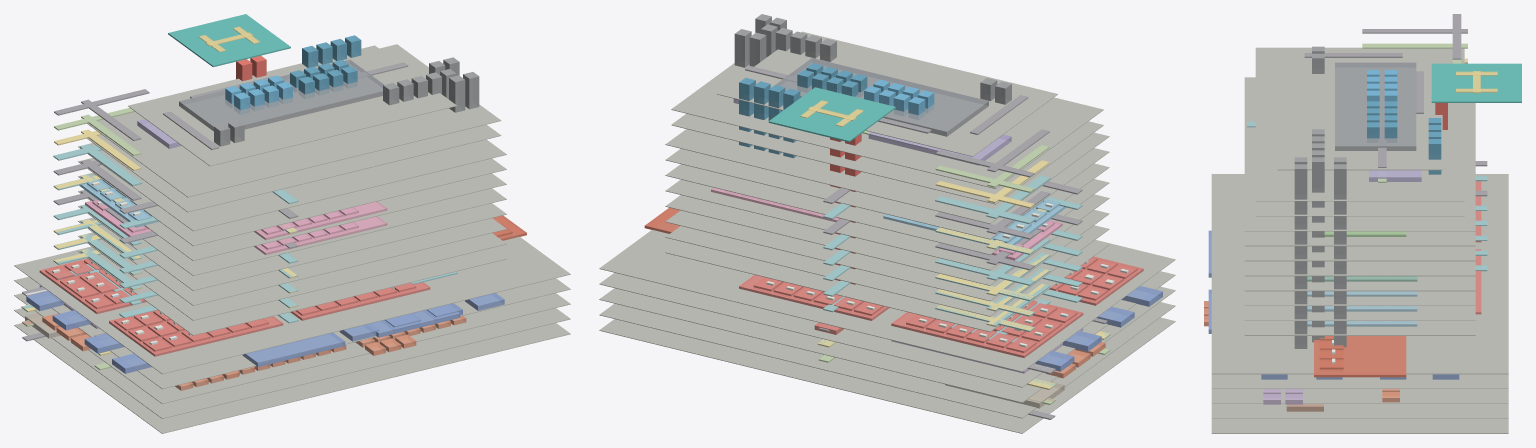
Rendered from hospital_model.glb.
3 views of the same model, side by side, from view 1: azimuth 30°, elevation 25°; view 2: azimuth 150°, elevation 25°; view 3: azimuth 270°, elevation 25° (orthographic). The views are drawn at different scales.
Parts seen in each view (by area): view 1: FLOOR-PH, FLOOR-L3, FLOOR-L13, FLOOR-B2, FLOOR-B1, FLOOR-L11, FLOOR-L12, FLOOR-L10, FLOOR-L4, FLOOR-L6, FLOOR-L5, FLOOR-L7 (+19 smaller); view 2: FLOOR-L3, FLOOR-PH, FLOOR-L13, FLOOR-B2, FLOOR-B1, FLOOR-L1, FLOOR-L2, FLOOR-L11, FLOOR-L10, FLOOR-L5, FLOOR-L4, FLOOR-L6 (+24 smaller); view 3: FLOOR-L3, FLOOR-PH, FLOOR-L13, FLOOR-L11, MECH-AHU, FLOOR-B2, FLOOR-B1, FLOOR-L2, FLOOR-L1, FLOOR-L8, FLOOR-L9, HELIPAD-ROOF-01 (+23 smaller).
Part boxes in pixels (bbox=[...]): FLOOR-PH: bbox=[128, 45, 456, 166]; FLOOR-L3: bbox=[14, 237, 570, 374]; FLOOR-L13: bbox=[87, 44, 501, 197]; FLOOR-B2: bbox=[14, 323, 570, 433]; FLOOR-B1: bbox=[14, 308, 570, 418]; FLOOR-L11: bbox=[78, 139, 506, 231]; FLOOR-L12: bbox=[87, 124, 501, 212]; FLOOR-L10: bbox=[78, 158, 506, 246]; FLOOR-L4: bbox=[78, 247, 506, 335]; FLOOR-L6: bbox=[78, 217, 506, 305]; FLOOR-L5: bbox=[78, 232, 506, 320]; FLOOR-L7: bbox=[78, 203, 506, 290]; FLOOR-L3: bbox=[599, 230, 1175, 371]; FLOOR-PH: bbox=[717, 31, 1057, 156]; FLOOR-L13: bbox=[671, 33, 1103, 188]; FLOOR-B2: bbox=[599, 317, 1175, 433]; FLOOR-B1: bbox=[599, 302, 1175, 418]; FLOOR-L1: bbox=[599, 286, 1175, 402]; FLOOR-L2: bbox=[599, 271, 1175, 387]; FLOOR-L11: bbox=[665, 129, 1109, 223]; FLOOR-L10: bbox=[665, 148, 1109, 239]; FLOOR-L5: bbox=[665, 225, 1109, 316]; FLOOR-L4: bbox=[665, 240, 1109, 331]; FLOOR-L6: bbox=[665, 210, 1109, 301]; FLOOR-L3: bbox=[1211, 174, 1508, 374]; FLOOR-PH: bbox=[1277, 49, 1442, 170]; FLOOR-L13: bbox=[1255, 47, 1464, 201]; FLOOR-L11: bbox=[1244, 77, 1475, 231]; MECH-AHU: bbox=[1335, 62, 1416, 150]; FLOOR-B2: bbox=[1211, 419, 1508, 433]; FLOOR-B1: bbox=[1211, 404, 1508, 418]; FLOOR-L2: bbox=[1211, 374, 1508, 388]; FLOOR-L1: bbox=[1211, 389, 1508, 403]; FLOOR-L8: bbox=[1244, 261, 1475, 276]; FLOOR-L9: bbox=[1244, 246, 1475, 261]; HELIPAD-ROOF-01: bbox=[1431, 63, 1521, 102].
Size of the model in its own units: 137 by 76.45 by 88.09.
